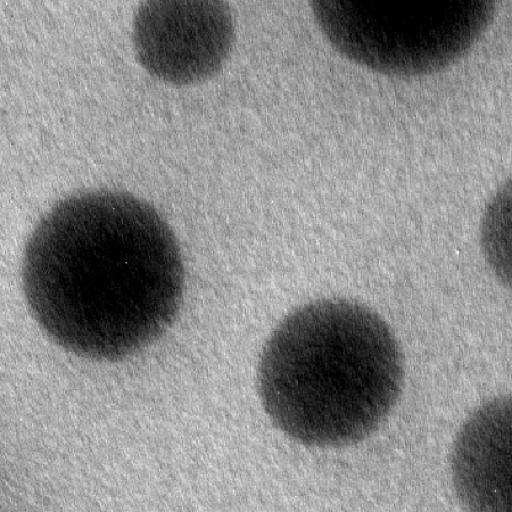Nanoparticles: (20, 188, 188, 362), (257, 291, 407, 448), (309, 1, 509, 81), (130, 0, 240, 88), (449, 389, 511, 512), (478, 178, 512, 285)
